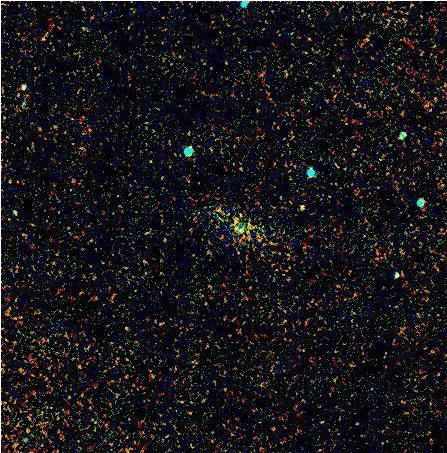star: (285, 194, 315, 224)
